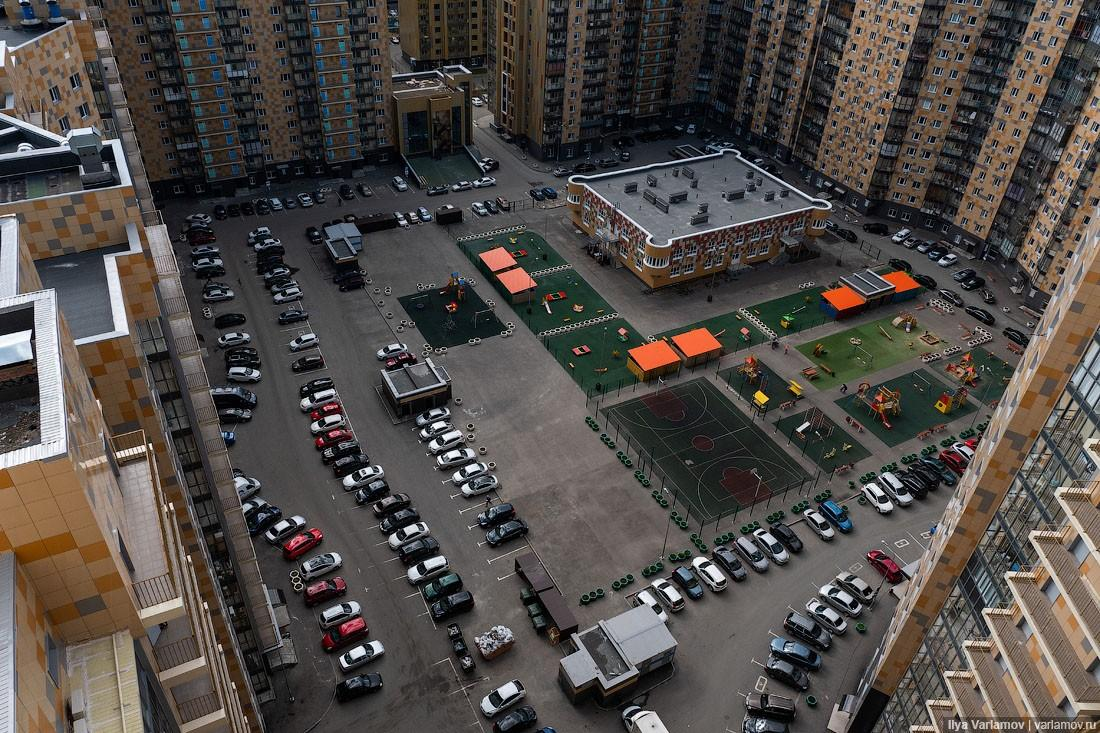empty: (747, 659, 818, 718), (762, 632, 828, 674), (472, 503, 532, 547), (796, 599, 854, 642), (783, 607, 838, 652), (266, 515, 325, 554), (476, 680, 529, 723), (332, 633, 385, 676), (425, 574, 473, 621), (294, 550, 350, 590), (298, 570, 354, 608), (818, 578, 874, 612), (314, 601, 367, 634), (403, 554, 451, 589), (319, 434, 366, 468), (646, 572, 688, 610), (341, 461, 389, 492), (455, 471, 503, 500), (690, 553, 724, 592), (737, 534, 771, 572), (871, 544, 903, 584), (801, 503, 833, 539), (310, 407, 350, 435), (428, 424, 464, 453), (224, 355, 262, 382), (303, 376, 344, 399), (211, 309, 251, 331), (285, 331, 322, 352), (275, 306, 313, 326), (289, 353, 328, 372), (202, 281, 239, 301), (432, 453, 479, 468), (867, 484, 887, 513), (194, 258, 232, 273)
occupied: (792, 518, 819, 549), (282, 319, 312, 339), (297, 370, 329, 383)
